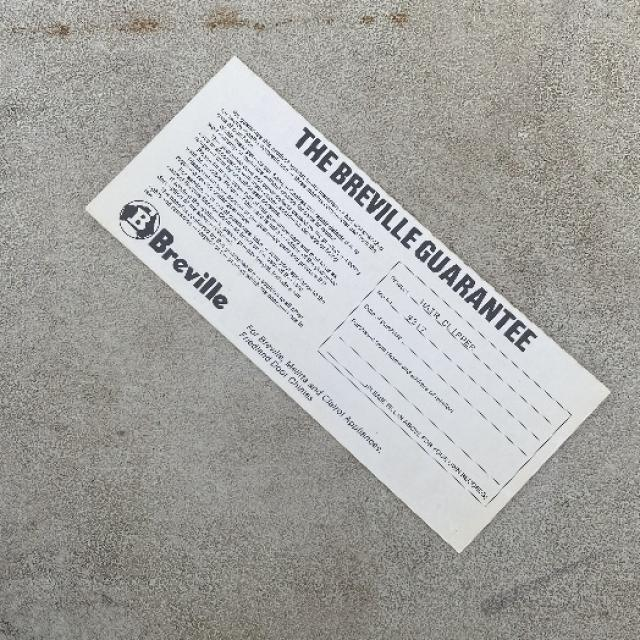paper: (83, 54, 611, 553)
